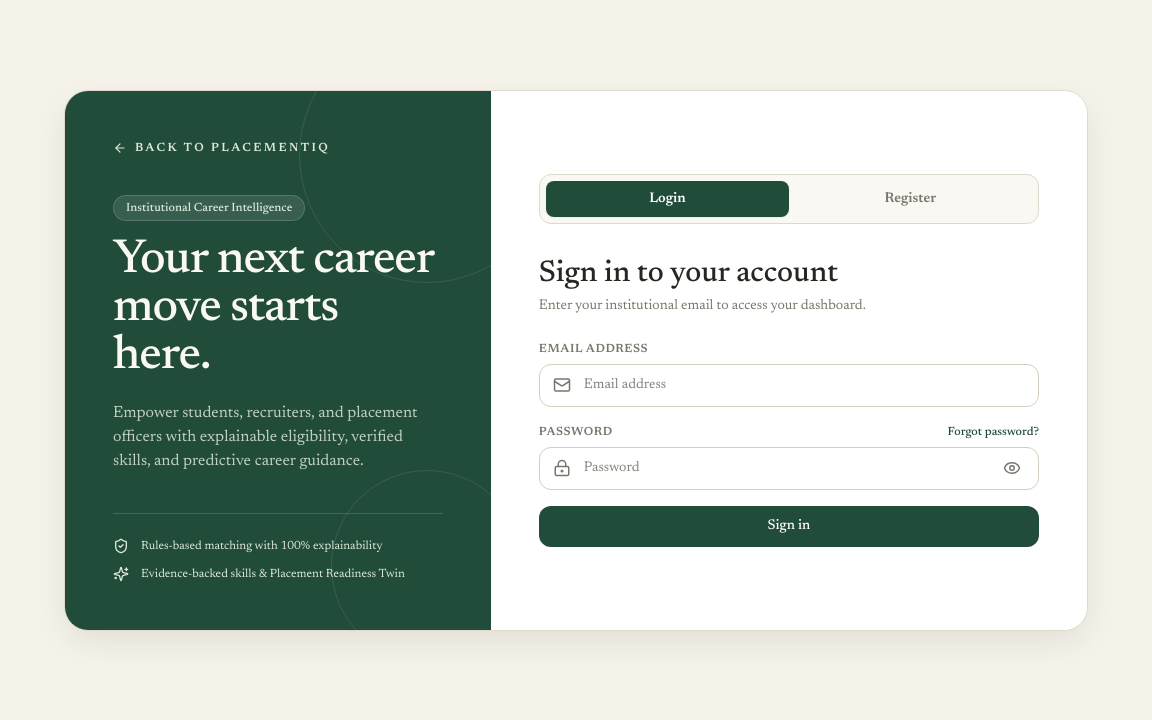
Test: navigates to the student dashboard after a successful login
Type "student@example.com" into the field labelled "Email address". click: (789,385)
box: [539, 364, 1039, 406]
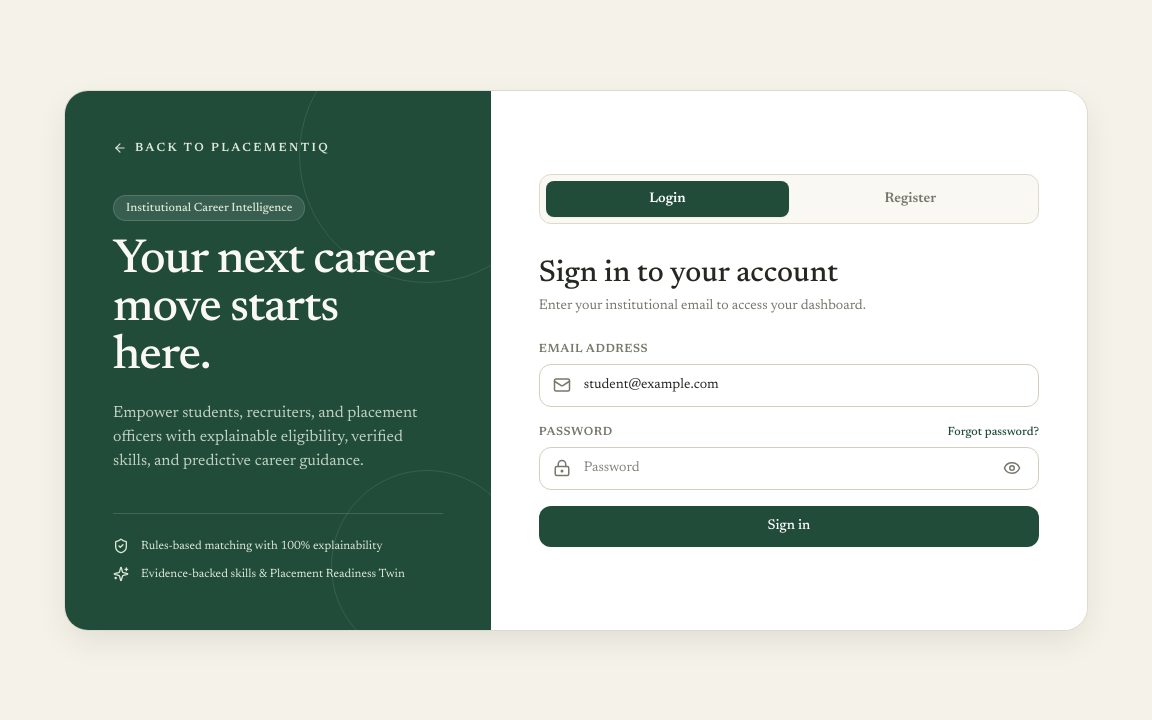
Type "Password123" into the password field labelled "Password". click: (789,468)
box: [539, 446, 1039, 490]
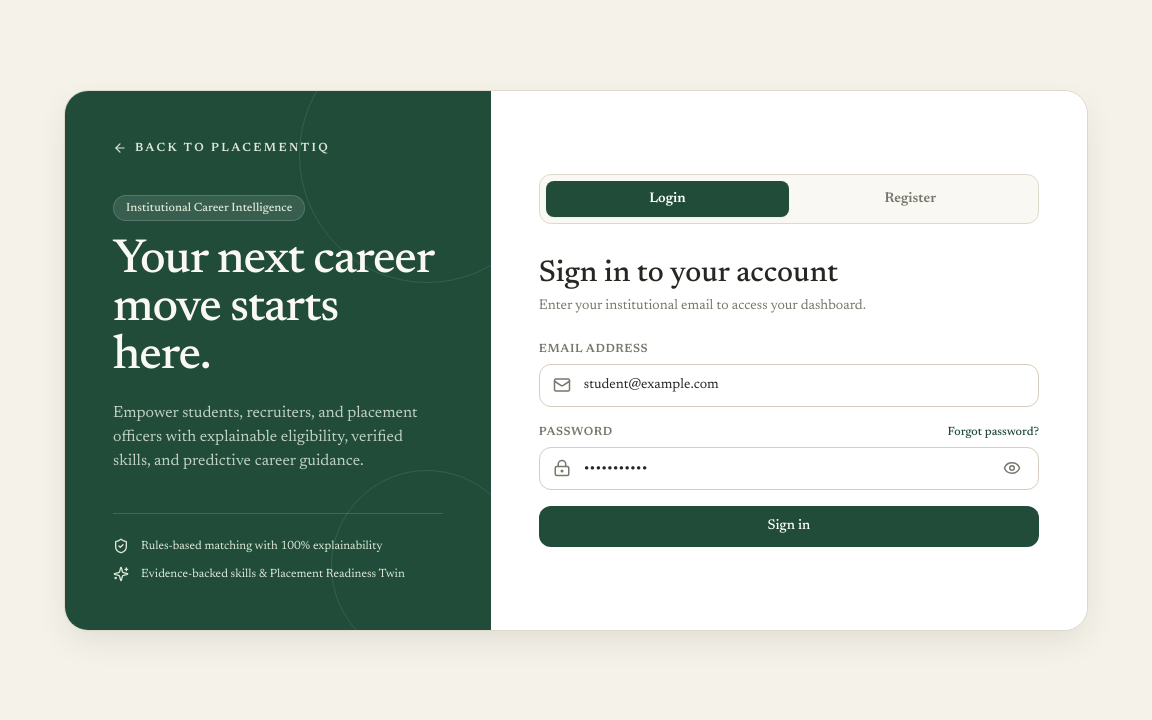
Click the button "Sign in". click: (789,526)
box: [539, 506, 1039, 546]
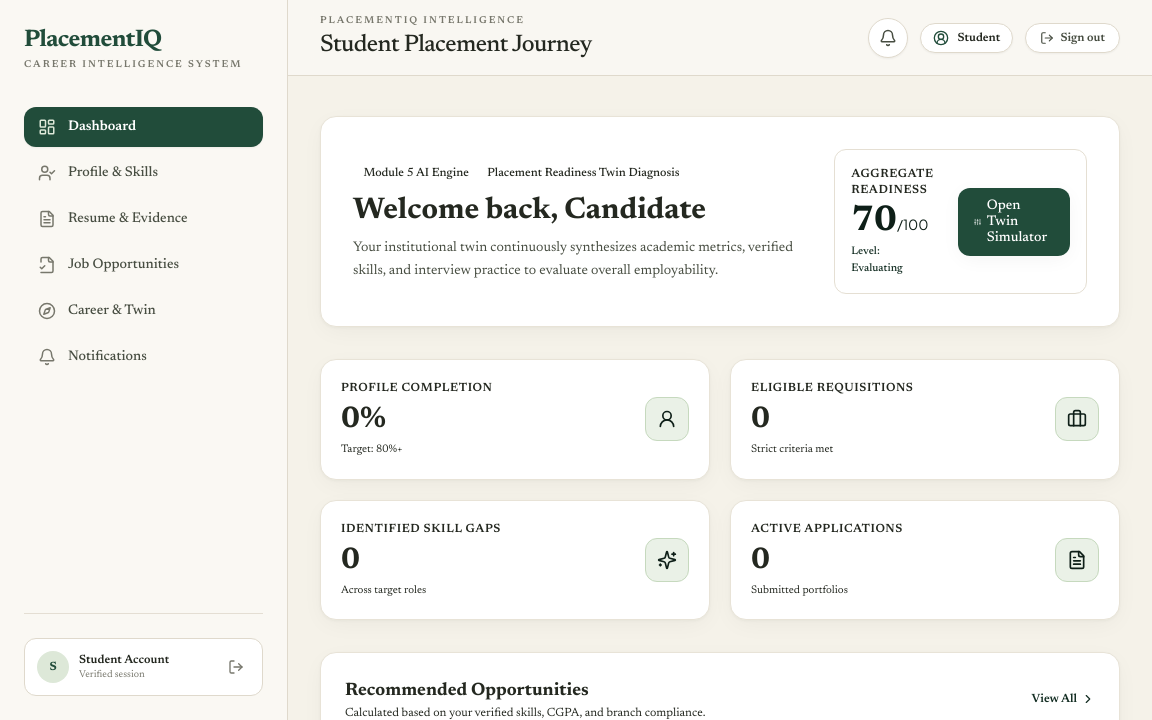
expect the heading "Student Placement Journey" is shown: met, box [320, 29, 592, 61]
